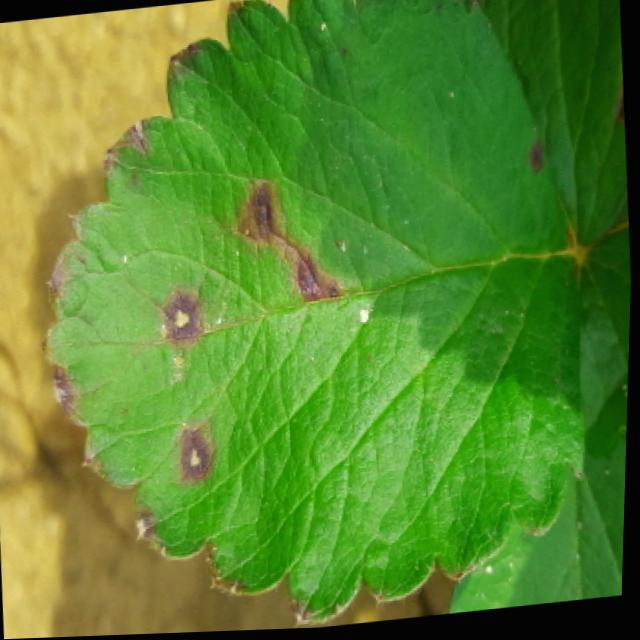Leaf Spot: (39, 0, 589, 623), (476, 0, 629, 257)
